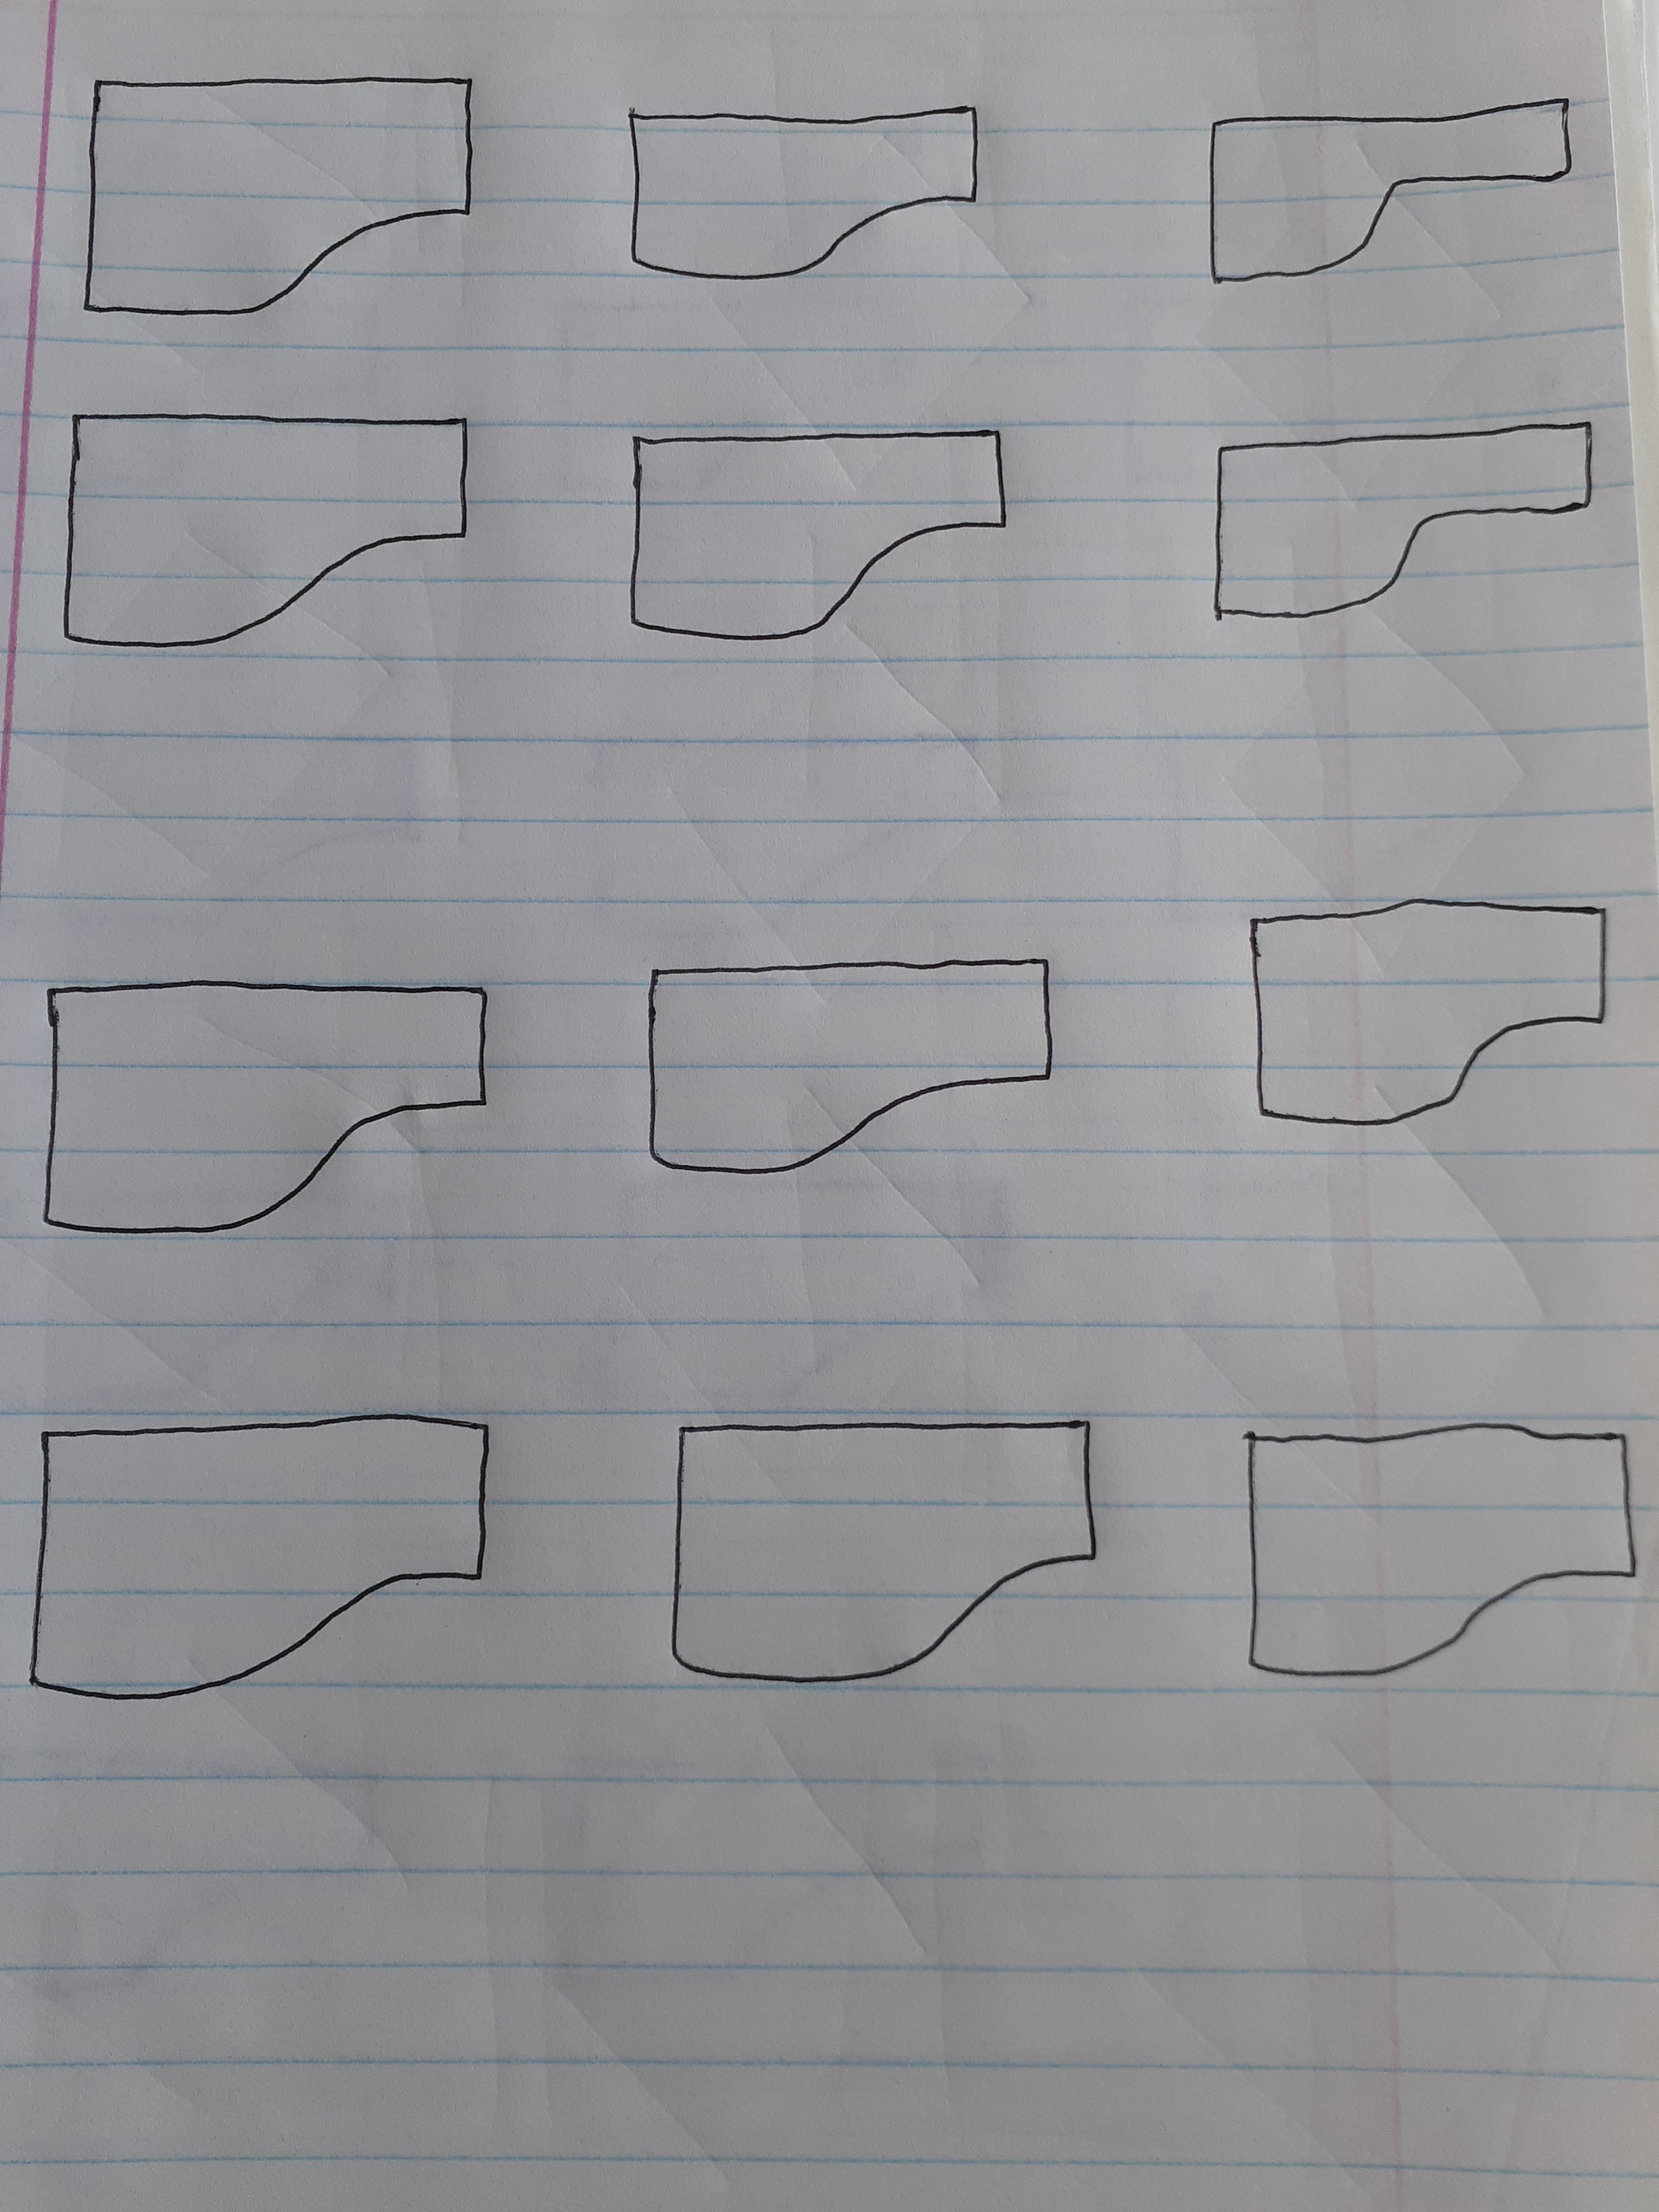print: (645, 1374, 1140, 1763), (10, 1378, 519, 1719), (24, 930, 498, 1275), (1223, 1364, 1647, 1719), (601, 927, 1098, 1214), (1213, 862, 1657, 1170), (45, 392, 502, 683), (603, 415, 1075, 679), (68, 45, 502, 329), (1183, 70, 1586, 320), (610, 63, 1004, 303), (1211, 408, 1621, 625)
